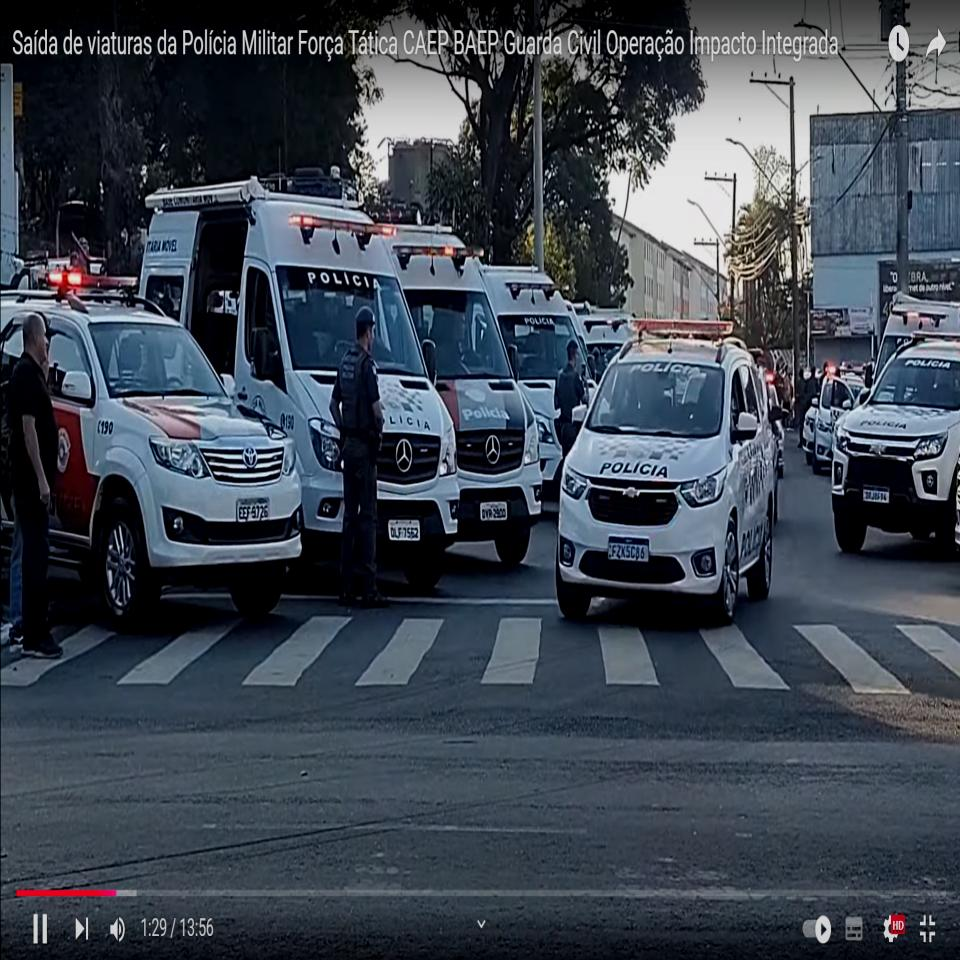viatura: (55, 269, 304, 628), (558, 318, 780, 624), (830, 325, 960, 556)
